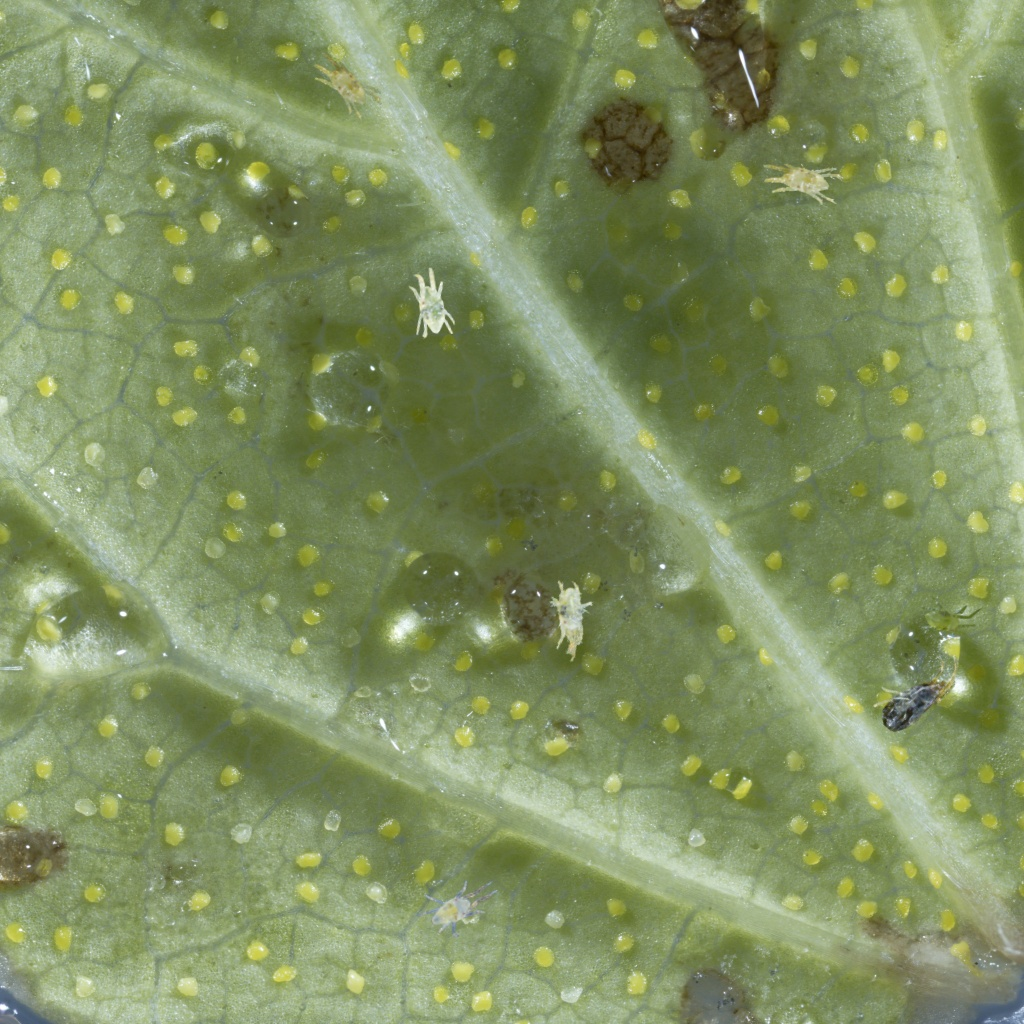Adult_male: (410, 871, 508, 948), (528, 575, 606, 664), (301, 50, 389, 127), (914, 593, 983, 654), (405, 265, 457, 340), (763, 163, 844, 205)
Dead_mite: (863, 632, 971, 744)
